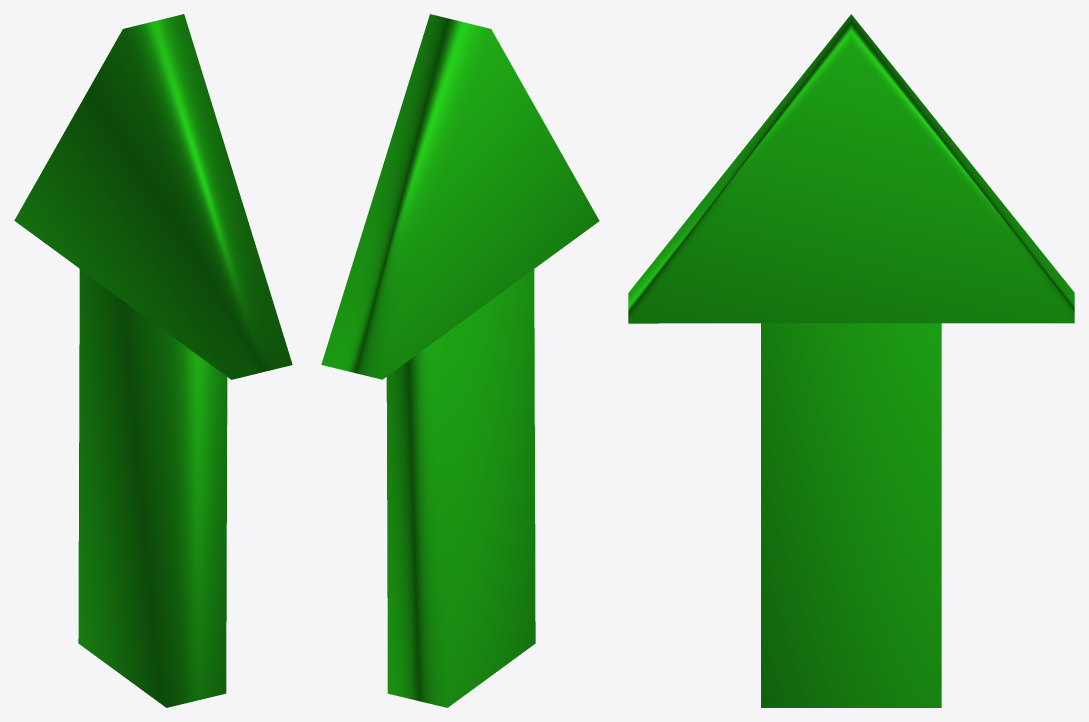
The model's file is uploads_files_4083314_arrow_2.fbx.
The picture shows the model from 3 angles, left to right: view 1: azimuth 30°, elevation 25°; view 2: azimuth 150°, elevation 25°; view 3: azimuth 270°, elevation 25°; orthographic projection. The views are drawn at different scales.
Parts seen in each view (by area): view 1: Cube, Cylinder; view 2: Cube, Cylinder; view 3: Cylinder, Cube.
Part boxes in pixels (<box>): Cube: <box>78,269,227,707</box>; Cylinder: <box>14,14,292,379</box>; Cube: <box>386,269,535,707</box>; Cylinder: <box>321,14,599,379</box>; Cylinder: <box>628,14,1074,323</box>; Cube: <box>761,323,941,707</box>.
Bounding box in the file's own units: 0.5736 × 5.75 × 3.5.
